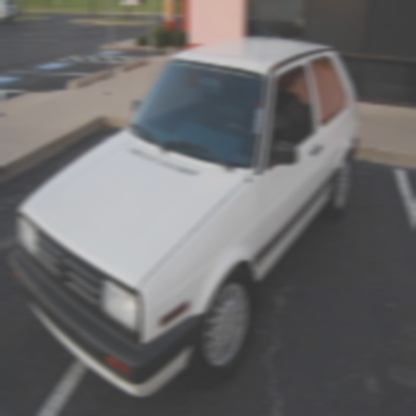Vehicle: (7, 38, 360, 403)
